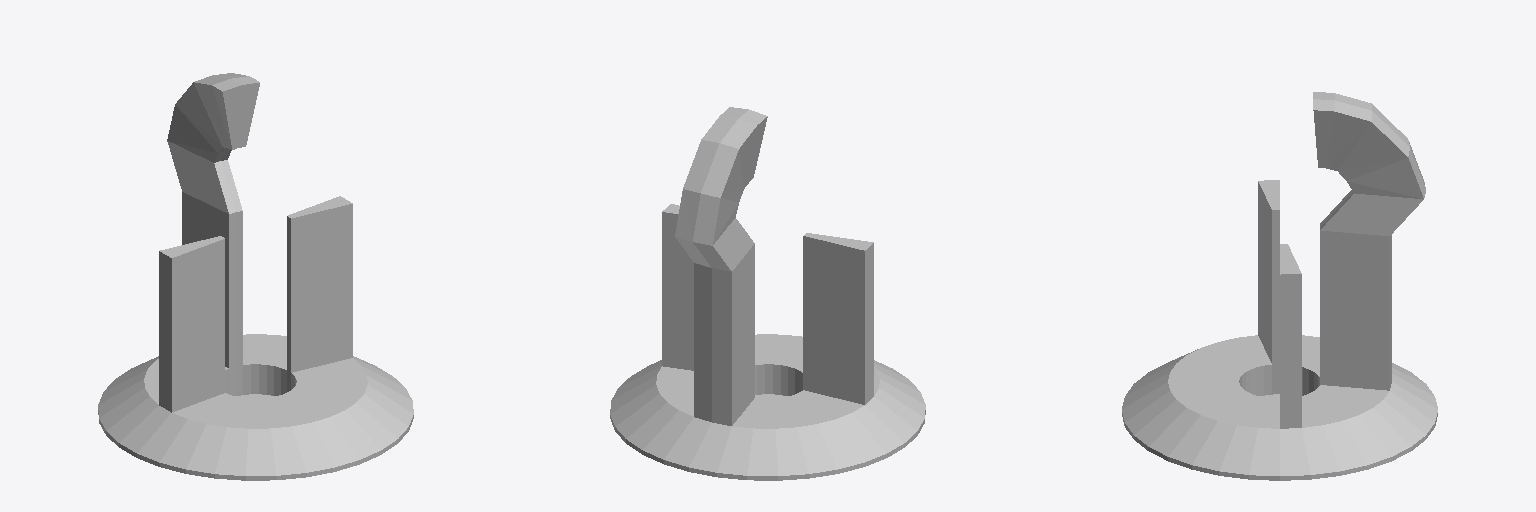
Rendered from StartShipLanding.obj.
The picture shows the model from 3 angles: view 1: azimuth 30°, elevation 25°; view 2: azimuth 150°, elevation 25°; view 3: azimuth 270°, elevation 25°; orthographic projection.
Parts seen in each view (by area): view 1: Cylinder; view 2: Cylinder; view 3: Cylinder.
Boxes of the visible parts, box(x1,y1,x2,y2) form: Cylinder: box(98, 73, 413, 480); Cylinder: box(610, 107, 925, 480); Cylinder: box(1122, 92, 1437, 480).
Size of the model in its own units: 27.18 by 29.97 by 27.18.